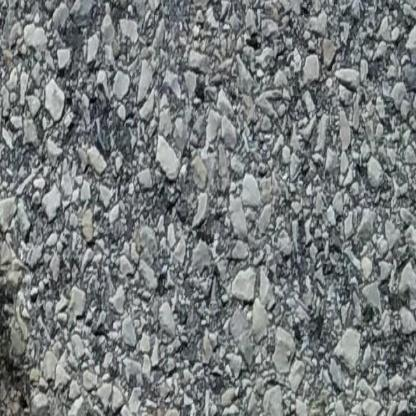Cracks: (0, 252, 62, 416)
